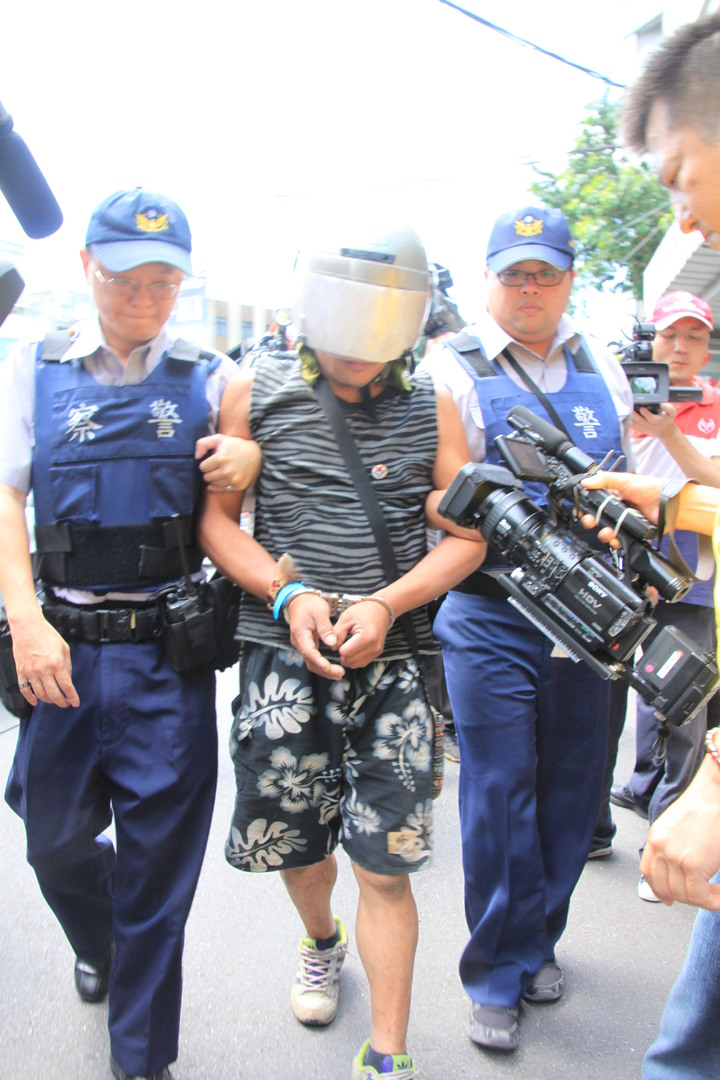helmet: (288, 209, 443, 339)
